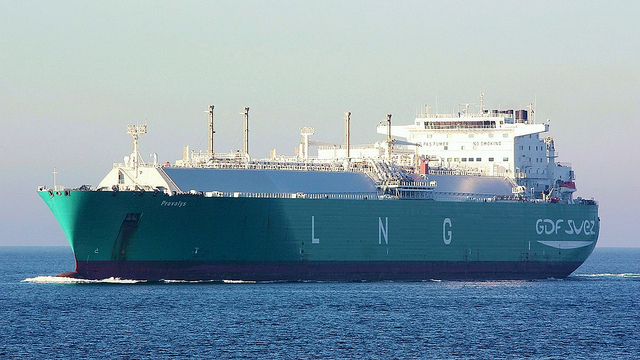LNG_ship: (43, 94, 601, 282)
